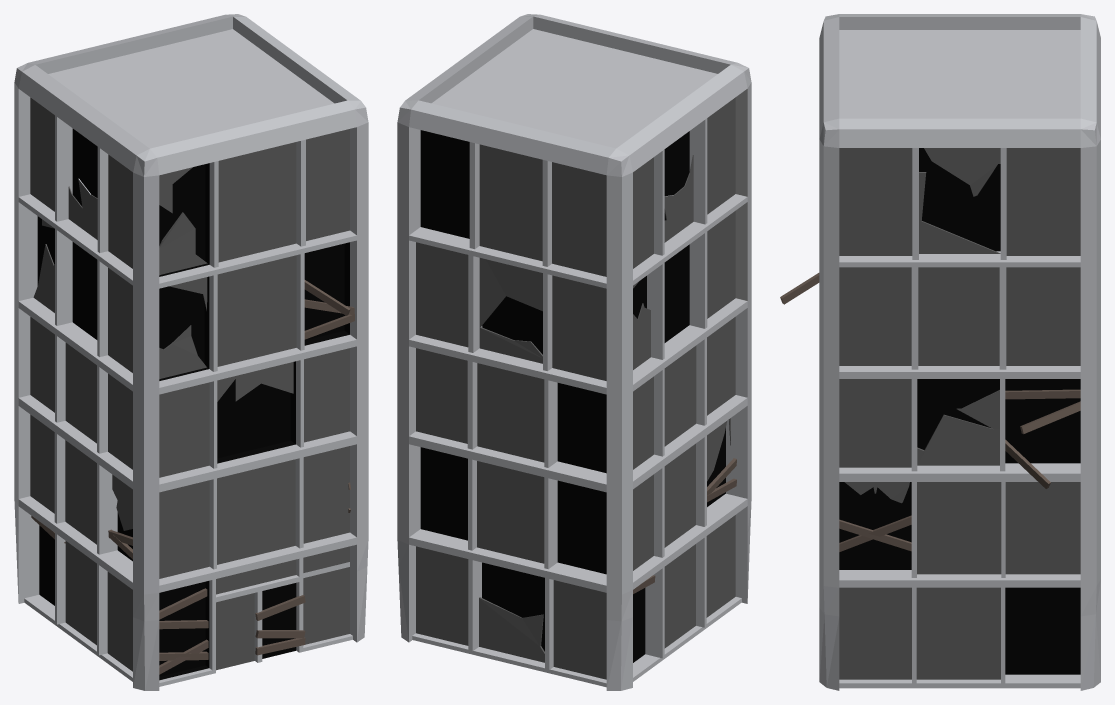
File: OfficeBuildingUNITY.fbx
The picture shows the model from 3 angles, left to right: view 1: azimuth 30°, elevation 25°; view 2: azimuth 150°, elevation 25°; view 3: azimuth 270°, elevation 25°; orthographic projection. The views are drawn at different scales.
Visible parts, largest first — view 1: pasted__pCube8; view 2: pasted__pCube8; view 3: pasted__pCube8.
Part boxes in pixels (<box>): pasted__pCube8: <box>14,14,368,690</box>; pasted__pCube8: <box>397,14,751,690</box>; pasted__pCube8: <box>780,14,1100,690</box>.
Bounding box in the file's own units: 16.24 × 33.55 × 17.31.
